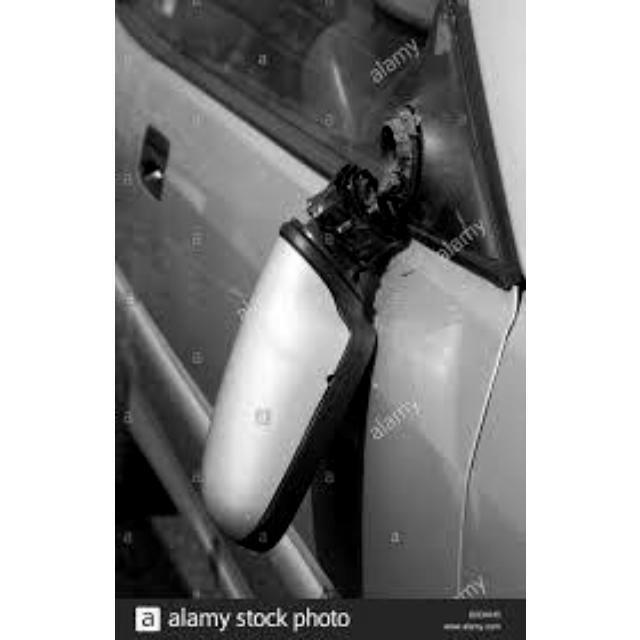Sidemirror-Damage: (174, 107, 439, 555)
